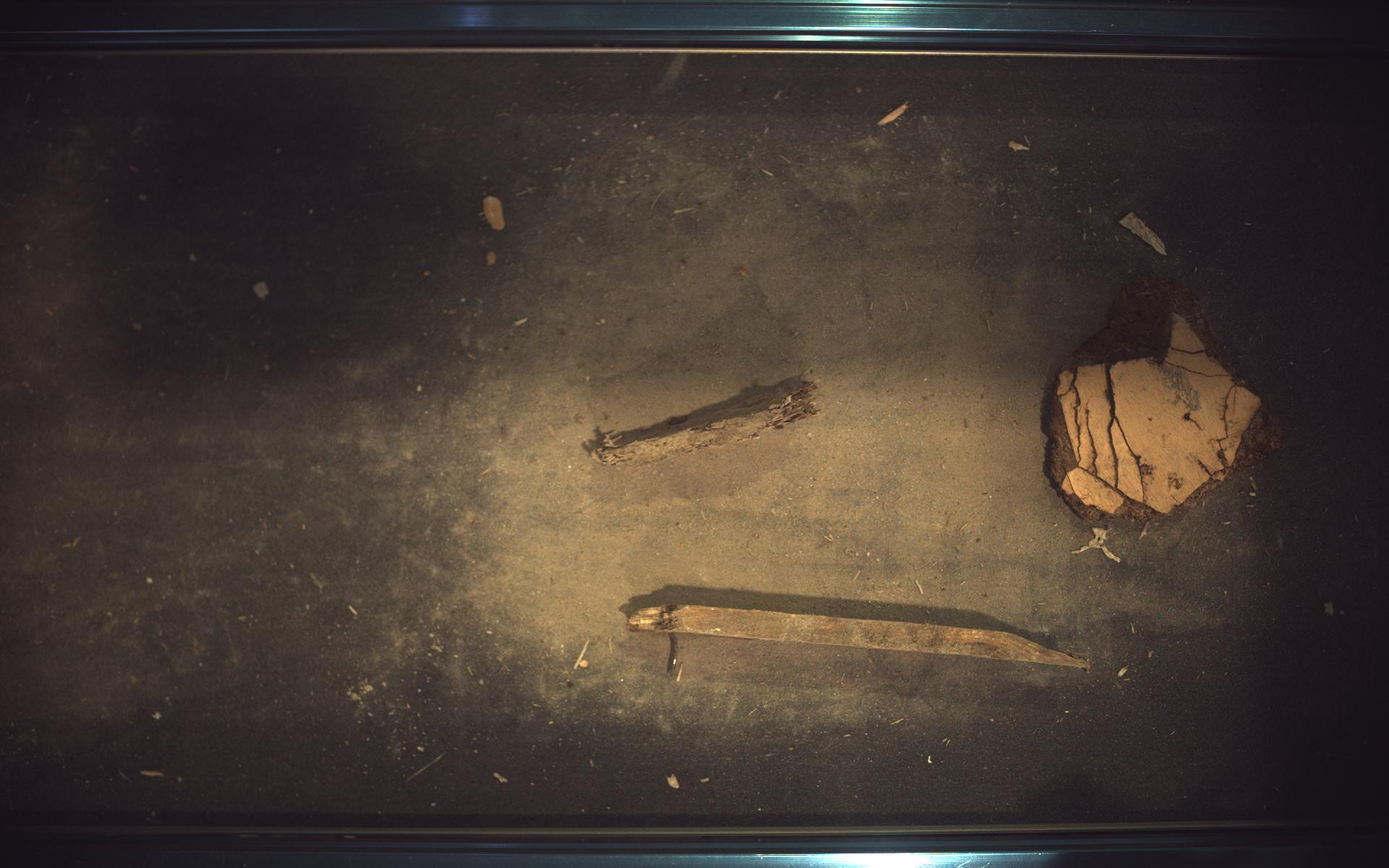wood: (1045, 276, 1285, 522), (629, 605, 1091, 670), (592, 375, 820, 466)
